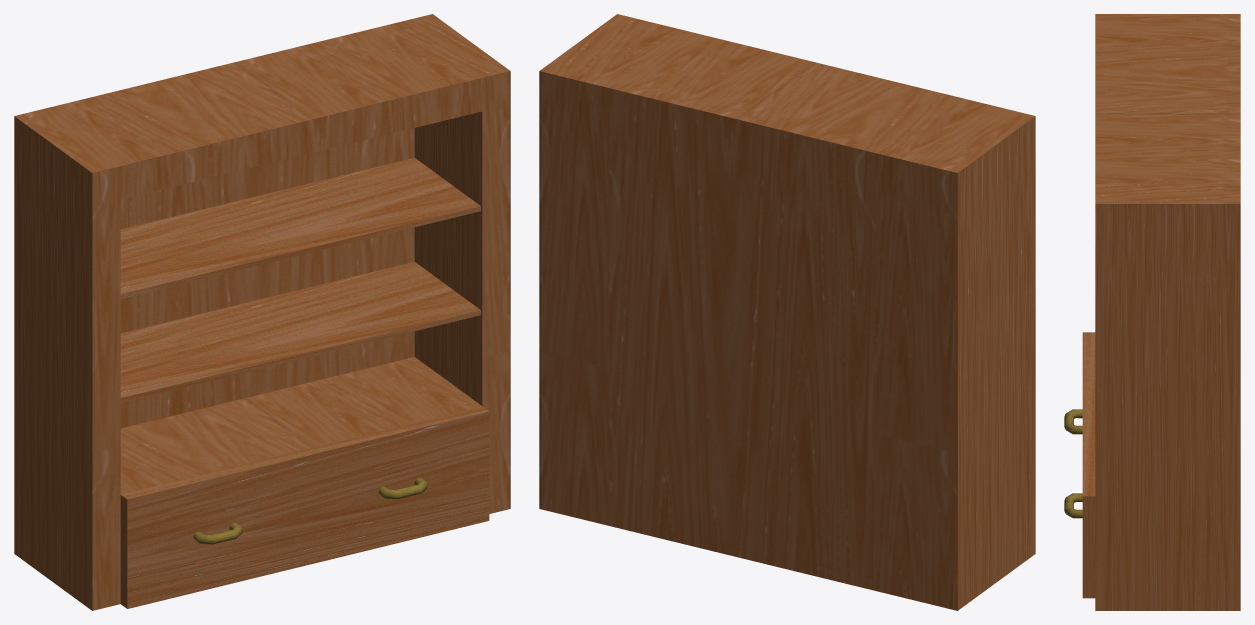
File: Cabnet_textured.fbx
The picture shows the model from 3 angles, left to right: view 1: azimuth 30°, elevation 25°; view 2: azimuth 150°, elevation 25°; view 3: azimuth 270°, elevation 25°; orthographic projection. The views are drawn at different scales.
Parts seen in each view (by area): view 1: polySurface2; view 2: polySurface2; view 3: polySurface2.
Part boxes in pixels (<box>): polySurface2: <box>14,14,510,610</box>; polySurface2: <box>539,14,1035,610</box>; polySurface2: <box>1064,14,1240,610</box>.
Bounding box in the file's own units: 20.61 × 20.61 × 8.09.
